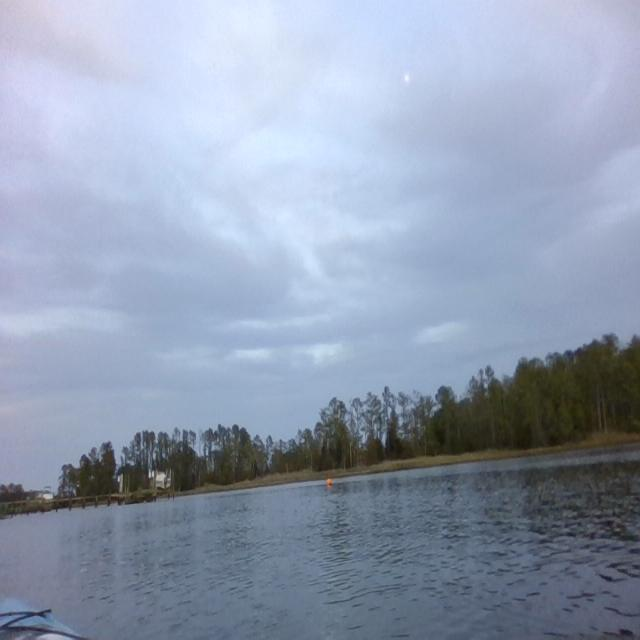Buoy: (325, 476, 333, 491)
